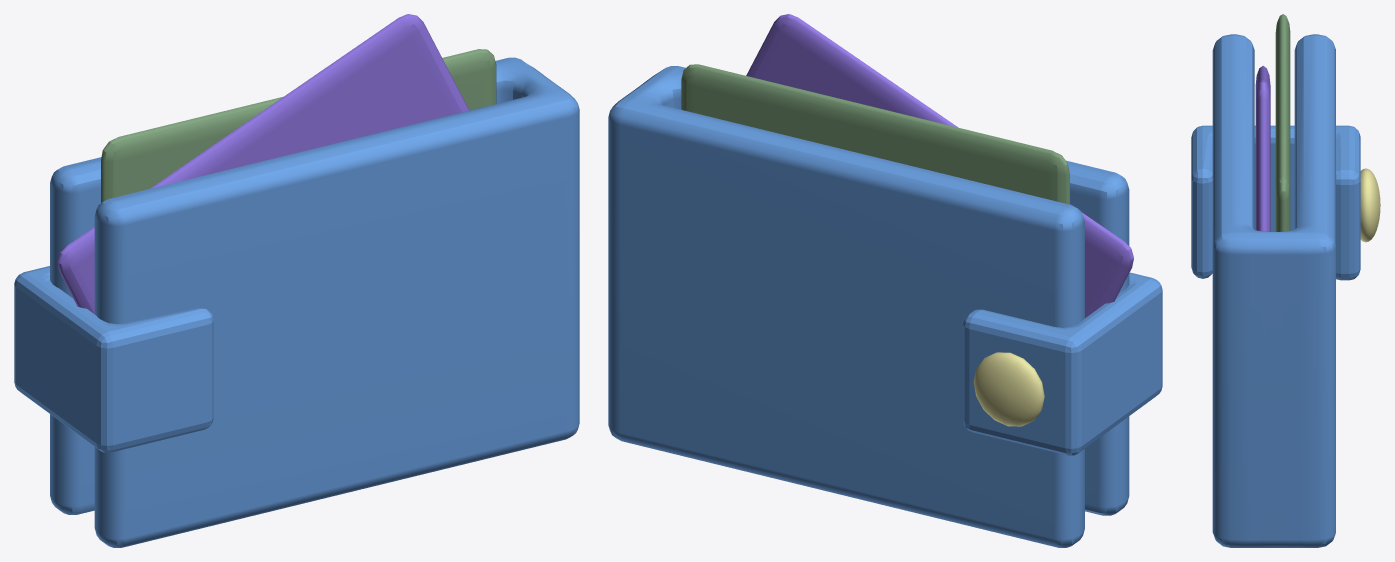
Rendered from Wallet2.fbx.
3 views of the same model, side by side, from view 1: azimuth 30°, elevation 25°; view 2: azimuth 150°, elevation 25°; view 3: azimuth 270°, elevation 25° (orthographic). The views are drawn at different scales.
Visible parts, largest first — view 1: wallet, buckle, Card2, Card1; view 2: wallet, buckle, Card1, Card2, button; view 3: wallet, buckle, Card1, Card2, button.
Boxes of the visible parts, x1,y1,x2,y2 form: wallet: (50, 57, 579, 547); buckle: (14, 266, 213, 452); Card2: (57, 14, 469, 313); Card1: (101, 49, 496, 202); wallet: (608, 66, 1129, 547); buckle: (963, 272, 1162, 455); Card1: (681, 64, 1069, 204); Card2: (746, 14, 1133, 317); button: (973, 352, 1044, 426); wallet: (1212, 34, 1335, 547); buckle: (1191, 125, 1360, 280); Card1: (1275, 14, 1290, 231); Card2: (1255, 66, 1270, 231); button: (1360, 168, 1380, 242).
Size of the model in its own units: 9.69 by 8.17 by 3.47.
